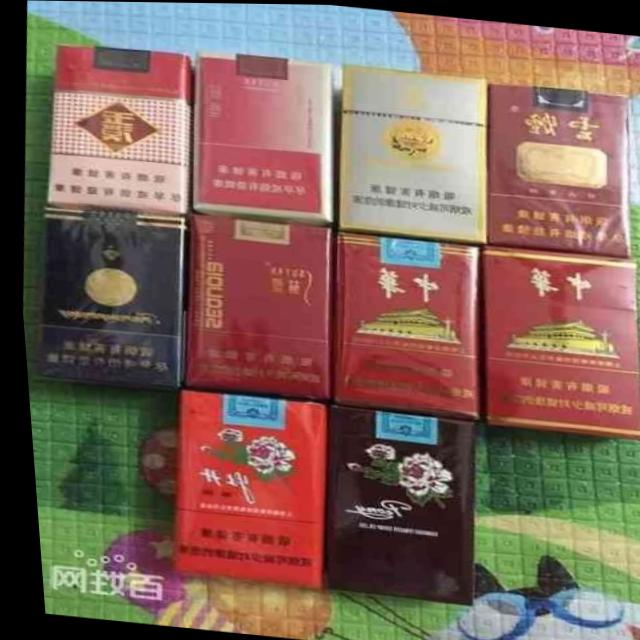box: (476, 242, 638, 438), (165, 389, 322, 590), (313, 403, 467, 605), (177, 213, 329, 402), (327, 228, 476, 419), (33, 203, 184, 391), (335, 62, 485, 242), (44, 43, 192, 216), (484, 82, 627, 255), (188, 51, 330, 224)
